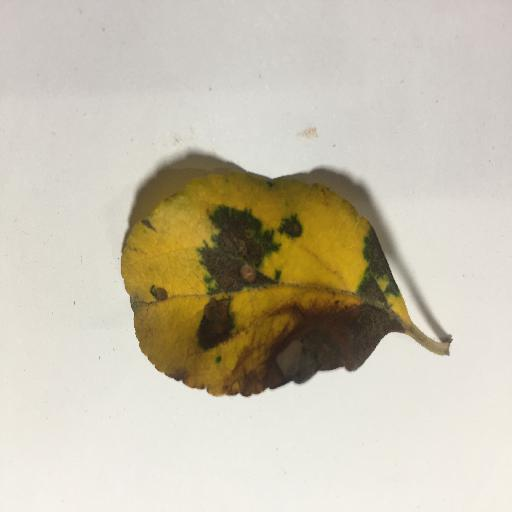Brown_Spot: (235, 320, 388, 384), (197, 222, 279, 279), (200, 302, 231, 341), (148, 287, 176, 299)
